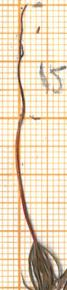flower: (17, 237, 67, 290)
root: (16, 1, 30, 119)
stem: (12, 120, 41, 242)
